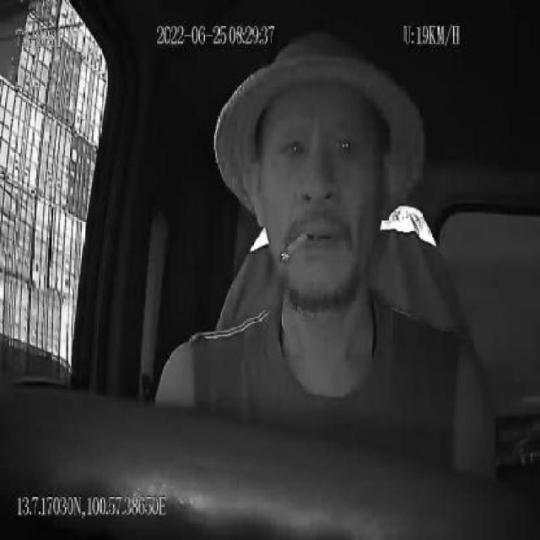smoking: (280, 231, 308, 265)
